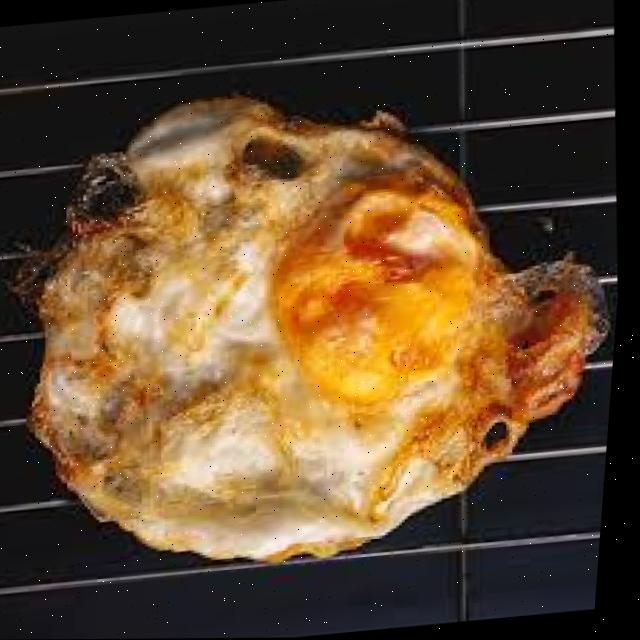Egg: (35, 97, 608, 559)
